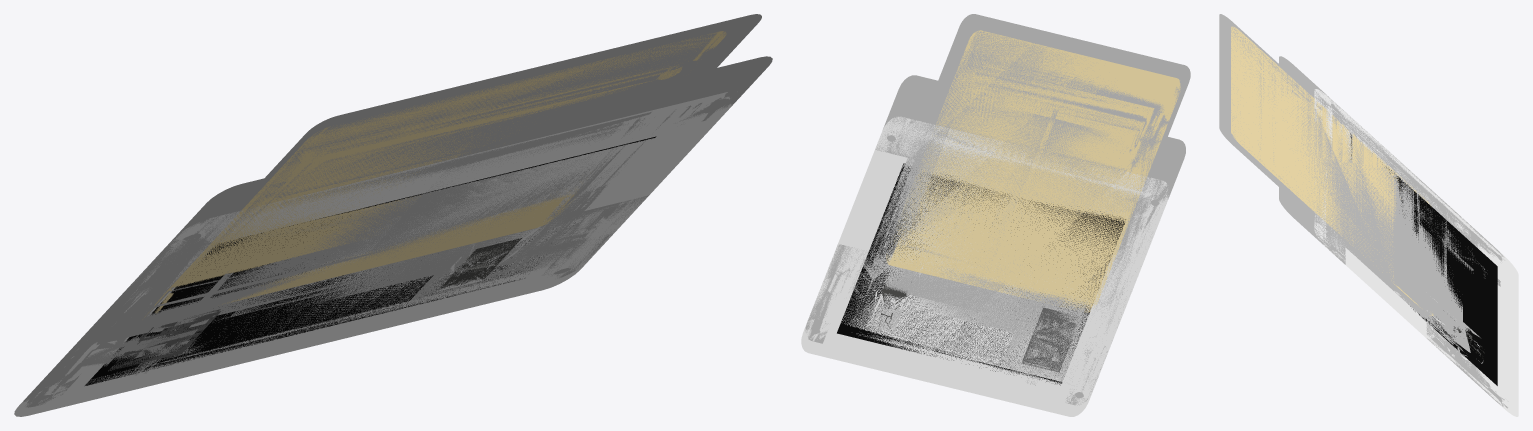
File: einkv3.glb
3 renders of one model, left to right at view 1: azimuth 30°, elevation 25°; view 2: azimuth 150°, elevation 25°; view 3: azimuth 270°, elevation 25°, orthographic. The views are drawn at different scales.
Parts seen in each view (by area): view 1: EINK-1 v85 (×18), e-inkscreen v4 (×6), LiPo-6-34-53 v1 (×4); view 2: LiPo-6-34-53 v1 (×4), e-inkscreen v4 (×6), EINK-1 v85 (×27), slide-switch v3; view 3: EINK-1 v85 (×9), LiPo-6-34-53 v1 (×3), e-inkscreen v4 (×4).
Boxes of the visible parts, box(x1,y1,x2,y2) form: EINK-1 v85 (×18): box(52, 14, 771, 369); e-inkscreen v4 (×6): box(14, 92, 730, 416); LiPo-6-34-53 v1 (×4): box(168, 32, 725, 305); LiPo-6-34-53 v1 (×4): box(886, 30, 1180, 311); e-inkscreen v4 (×6): box(802, 117, 1168, 416); EINK-1 v85 (×27): box(805, 14, 1190, 405); slide-switch v3: box(1023, 336, 1069, 366); EINK-1 v85 (×9): box(1219, 15, 1488, 379); LiPo-6-34-53 v1 (×3): box(1231, 26, 1433, 315); e-inkscreen v4 (×4): box(1314, 89, 1518, 416).
Size of what is drawn, in the model's own units: 0.0715 by 0.0591 by 0.0591.
